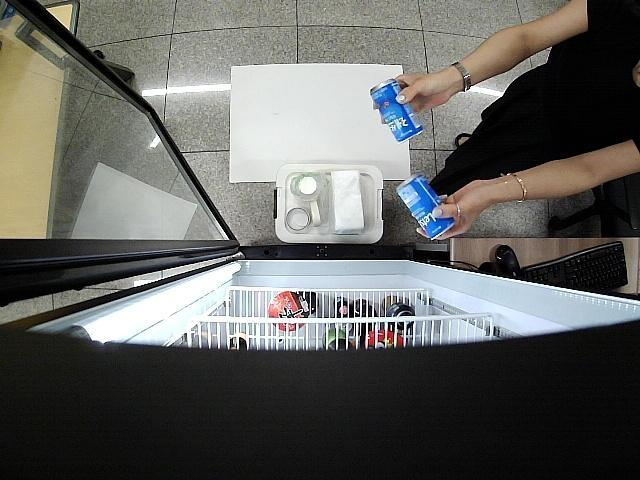15_letsbe: (397, 173, 455, 243), (369, 77, 423, 144)
